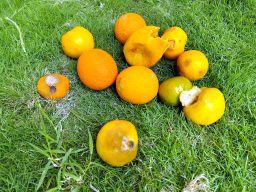orange: (95, 119, 139, 167), (122, 26, 172, 67), (77, 48, 119, 91), (180, 86, 225, 126), (115, 66, 159, 105), (112, 11, 147, 44), (158, 75, 194, 107), (60, 25, 94, 58), (176, 50, 209, 80), (36, 73, 71, 101), (161, 26, 187, 60)
